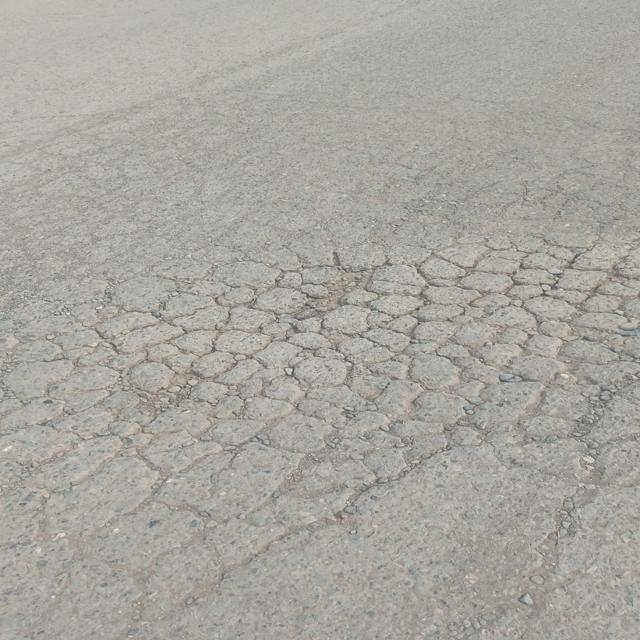Retak Buaya: (0, 249, 640, 518)
